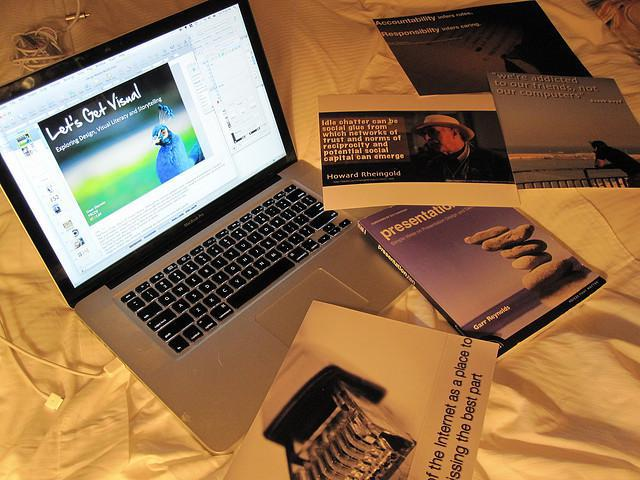tv: (2, 1, 300, 315)
